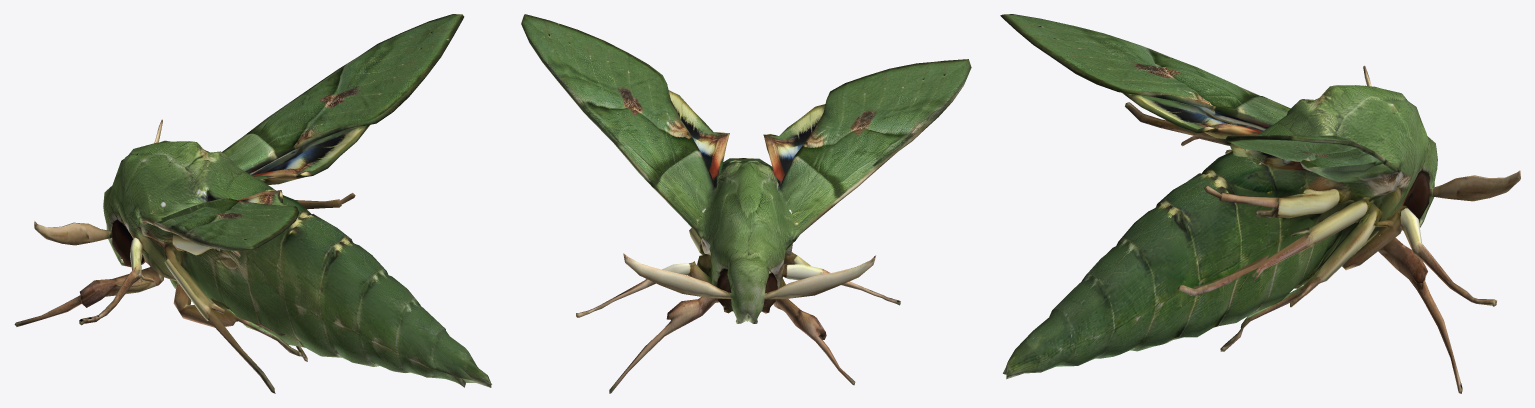
The model's file is polilla.glb.
The picture shows the model from 3 angles, left to right: view 1: azimuth 30°, elevation 25°; view 2: azimuth 150°, elevation 25°; view 3: azimuth 270°, elevation 25°; orthographic projection. The views are drawn at different scales.
Parts seen in each view (by area): view 1: tripo_node_f4a57bd3-14f2-4fa0-b364-9c57cac9b735; view 2: tripo_node_f4a57bd3-14f2-4fa0-b364-9c57cac9b735; view 3: tripo_node_f4a57bd3-14f2-4fa0-b364-9c57cac9b735.
Part boxes in pixels (bbox=[...]): tripo_node_f4a57bd3-14f2-4fa0-b364-9c57cac9b735: bbox=[14, 14, 491, 393]; tripo_node_f4a57bd3-14f2-4fa0-b364-9c57cac9b735: bbox=[521, 14, 971, 393]; tripo_node_f4a57bd3-14f2-4fa0-b364-9c57cac9b735: bbox=[1000, 14, 1520, 393].
Bounding box in the file's own units: 0.966 × 0.7027 × 0.9527.
Materials: 1 (1 with a texture image).
